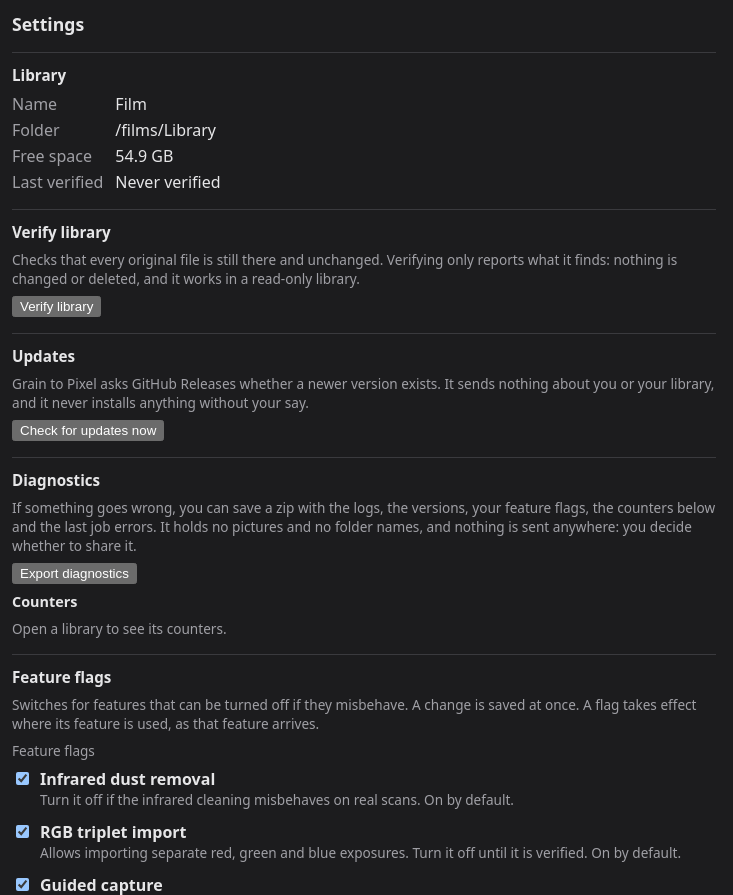
verifying the library from Settings › what a check found › says how much was checked and that nothing was found
Click the button "Verify library". click: (57, 306)
box: [12,296,101,317]
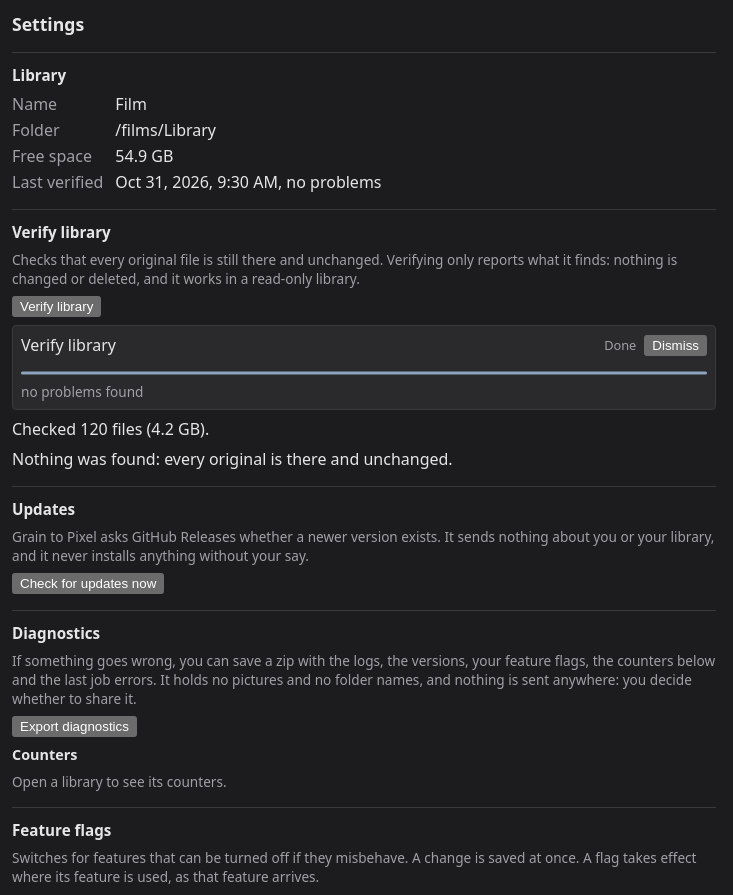
Check: the progress indicator named "Verify library" is shown, box [21,370,707,376]
Check: the text "Checked 120 files (4.2 GB)." shows "Nothing was found", box [12,448,453,470]
Check: the text "Oct 31, 2026, 9:30 AM, no problems" is shown, box [115,171,382,193]
